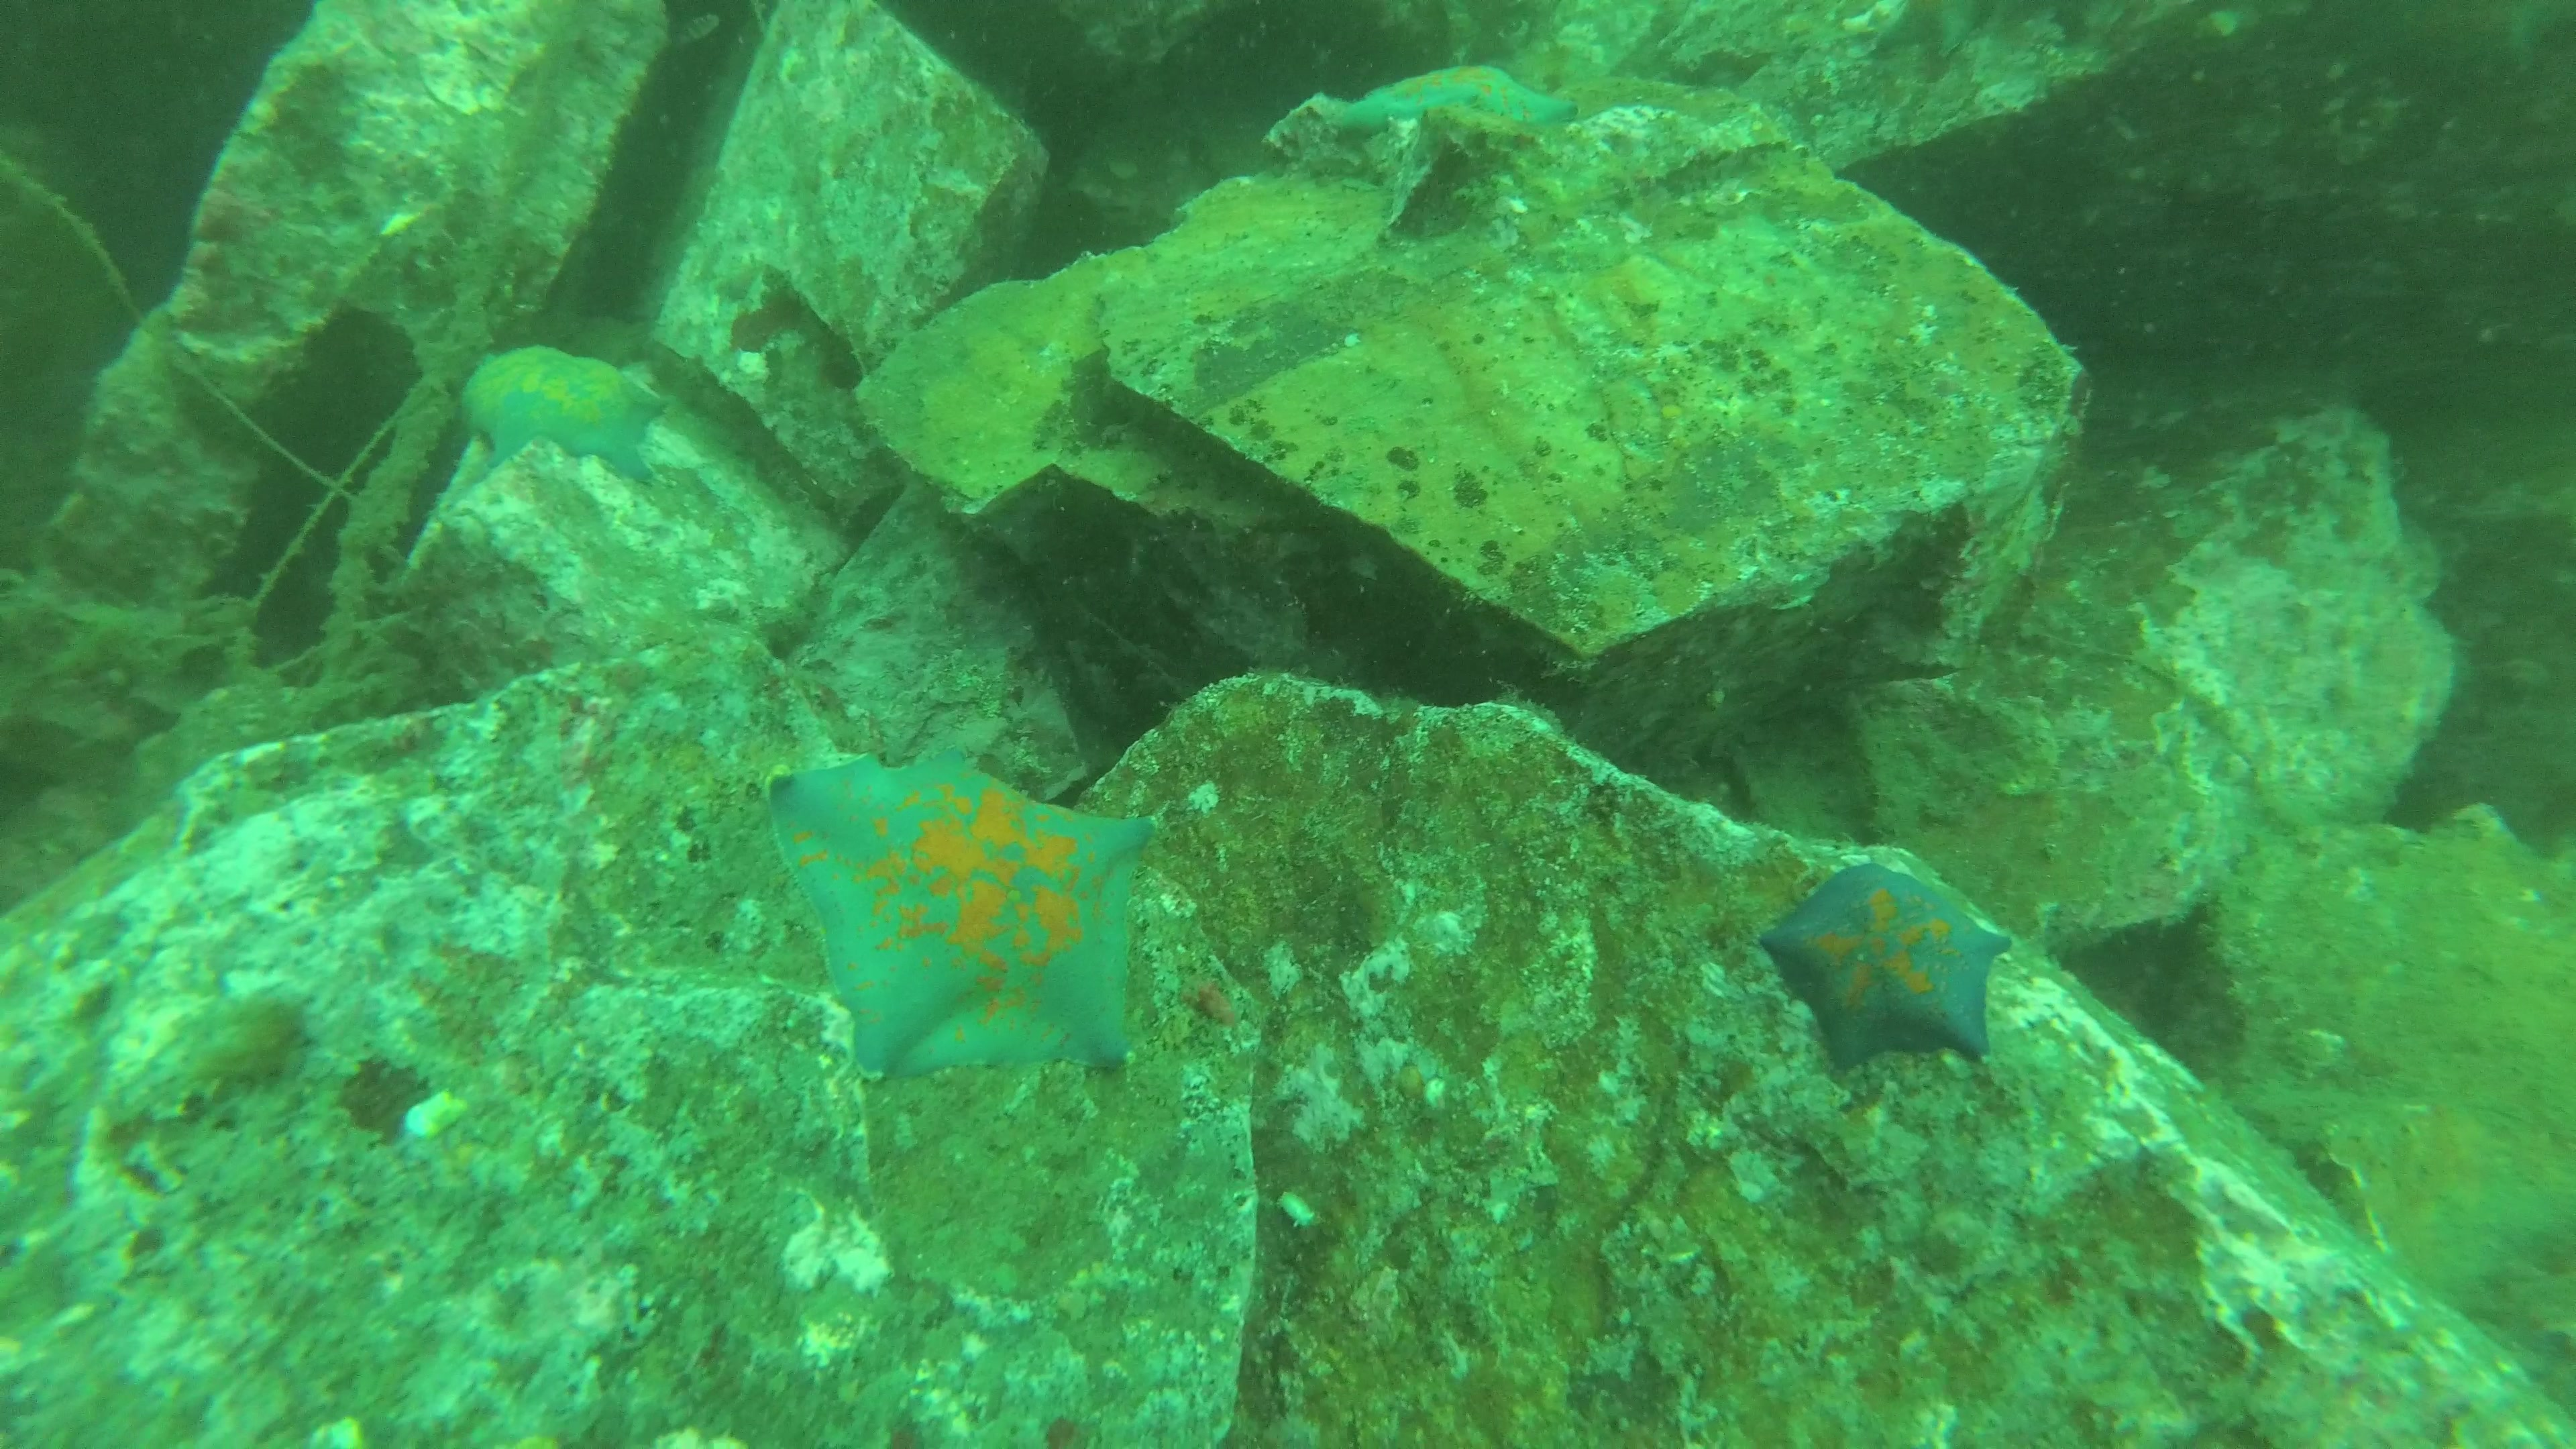starfish: (768, 743, 1166, 1085), (1757, 860, 2015, 1072), (456, 341, 678, 488), (1325, 62, 1587, 140)
